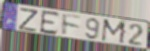2: (127, 23, 144, 48)
9: (85, 18, 102, 41)
E: (39, 9, 61, 37)
F: (61, 13, 82, 37)
M: (100, 18, 128, 46)
Z: (18, 7, 39, 33)
